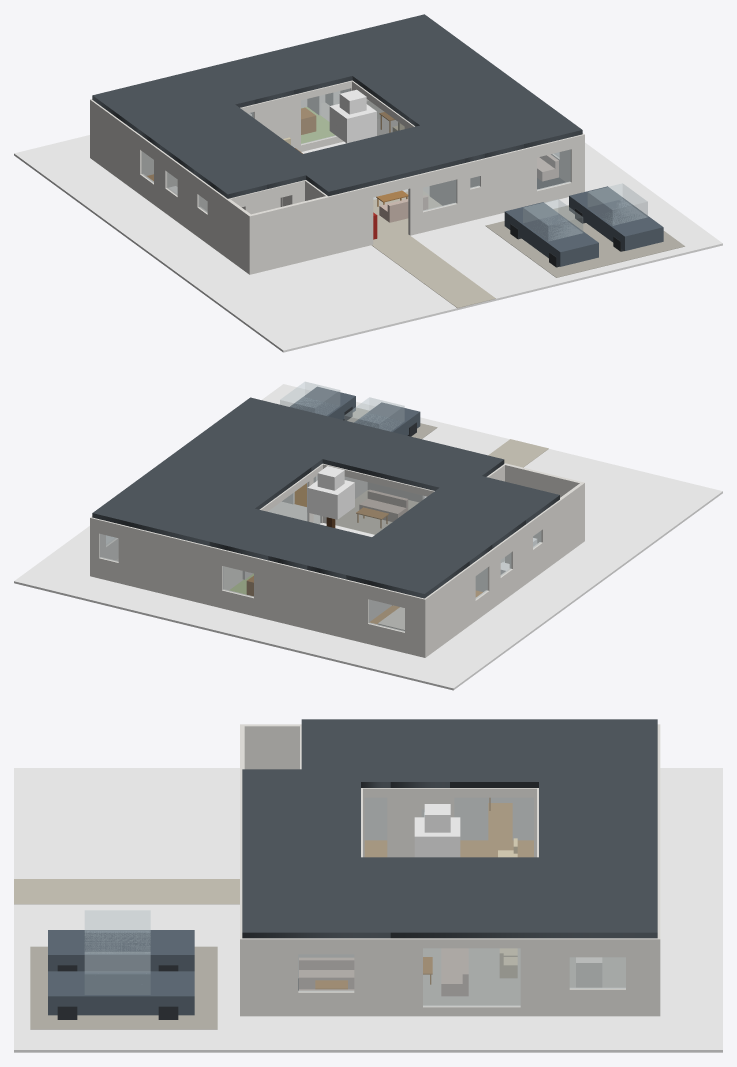
File: hiraya.glb
3 renders of one model, top to bottom at view 1: azimuth 30°, elevation 25°; view 2: azimuth 150°, elevation 25°; view 3: azimuth 270°, elevation 25°, orthographic. The views are drawn at different scales.
Parts seen in each view (by area): view 1: ground, roof.004, wall.030, roof.012, roof, roof.016, 車, 車.001, tile, wall.038, wall.010, concrete (+29 smaller); view 2: ground, roof.004, wall.003, roof.012, wall.006, roof, roof.016, wall.010, roof.003, roof.005, glass.019, wall.019 (+32 smaller); view 3: ground, roof.004, roof.012, roof.016, 車.001, roof, 車, tile, glass.007, concrete, wall.026, roof.005 (+41 smaller).
Boxes of the visible parts, bbox=[...] form: ground: bbox=[14, 135, 722, 352]; roof.004: bbox=[308, 14, 525, 121]; wall.030: bbox=[248, 186, 373, 273]; roof.012: bbox=[283, 125, 465, 196]; roof: bbox=[92, 76, 215, 132]; roof.016: bbox=[468, 88, 582, 148]; 車: bbox=[504, 202, 598, 266]; 車.001: bbox=[569, 186, 663, 250]; tile: bbox=[371, 235, 495, 308]; wall.038: bbox=[479, 146, 536, 218]; wall.010: bbox=[91, 100, 143, 193]; concrete: bbox=[485, 205, 684, 277]; ground: bbox=[14, 384, 722, 690]; roof.004: bbox=[92, 439, 311, 545]; wall.003: bbox=[254, 557, 369, 643]; roof.012: bbox=[322, 426, 504, 492]; wall.006: bbox=[118, 524, 223, 608]; roof: bbox=[346, 542, 469, 598]; roof.016: bbox=[194, 397, 308, 452]; wall.010: bbox=[422, 562, 475, 657]; roof.003: bbox=[209, 508, 312, 560]; roof.005: bbox=[341, 488, 478, 549]; glass.019: bbox=[335, 477, 426, 534]; wall.019: bbox=[540, 482, 584, 571]; ground: bbox=[14, 768, 722, 1052]; roof.004: bbox=[390, 857, 657, 938]; roof.012: bbox=[242, 769, 360, 857]; roof.016: bbox=[242, 895, 390, 938]; 車.001: bbox=[48, 971, 194, 1015]; roof: bbox=[539, 719, 657, 769]; 車: bbox=[48, 930, 194, 971]; tile: bbox=[14, 879, 239, 904]; glass.007: bbox=[423, 948, 520, 1006]; concrete: bbox=[30, 946, 217, 1029]; wall.026: bbox=[354, 938, 422, 1016]; roof.005: bbox=[361, 757, 568, 794].
Size of what is drawn, in the model's own units: 20.47 by 3.7 by 21.74.
